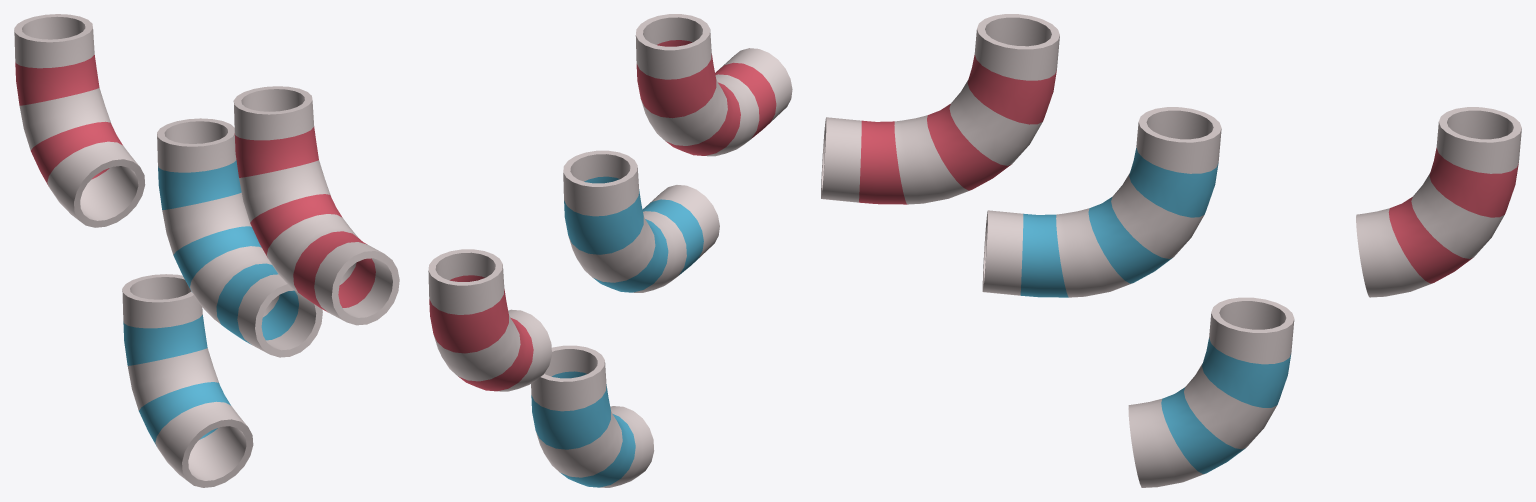
Rendered from Candy_pipes.fbx.
3 renders of one model, left to right at view 1: azimuth 30°, elevation 25°; view 2: azimuth 150°, elevation 25°; view 3: azimuth 270°, elevation 25°, orthographic. The views are drawn at different scales.
Parts seen in each view (by area): view 1: Candy_pipes3, Candy_pipes, Candy_pipes1, Candy_pipes2; view 2: Candy_pipes, Candy_pipes3, Candy_pipes1, Candy_pipes2; view 3: Candy_pipes, Candy_pipes3, Candy_pipes2, Candy_pipes1.
Boxes of the visible parts, x1,y1,x2,y2 form: Candy_pipes3: [233, 86, 399, 325]; Candy_pipes: [157, 118, 322, 357]; Candy_pipes1: [14, 14, 145, 227]; Candy_pipes2: [122, 274, 253, 487]; Candy_pipes: [563, 150, 719, 292]; Candy_pipes3: [635, 14, 792, 156]; Candy_pipes1: [428, 249, 551, 391]; Candy_pipes2: [531, 345, 654, 487]; Candy_pipes: [982, 107, 1221, 297]; Candy_pipes3: [821, 14, 1059, 204]; Candy_pipes2: [1128, 297, 1294, 487]; Candy_pipes1: [1356, 107, 1521, 297].
Bounding box in the file's own units: 0.5973 × 3.27 × 4.56.
